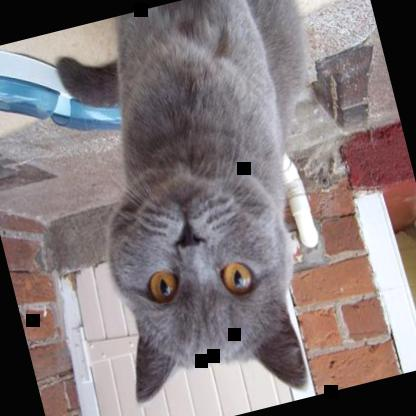cat: (45, 0, 396, 415)
